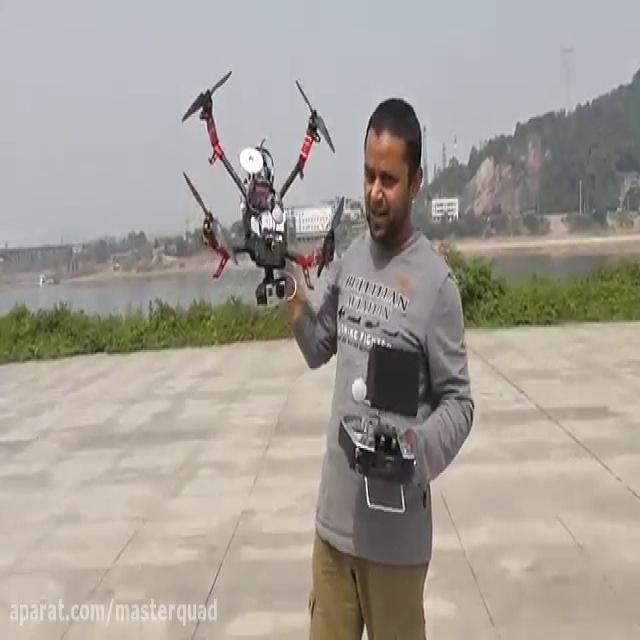drone: (179, 64, 344, 309)
